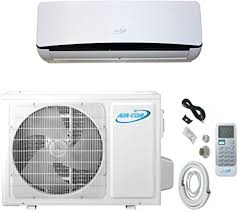ac: (33, 1, 206, 68)
